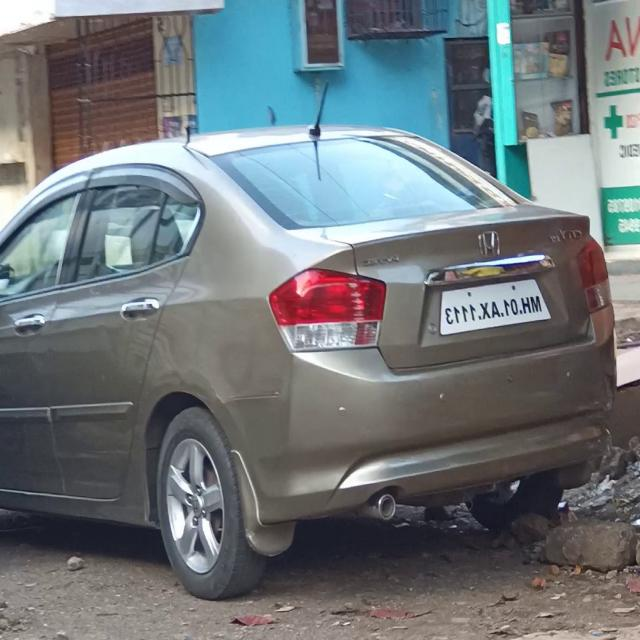license_plate: (430, 270, 554, 342)
